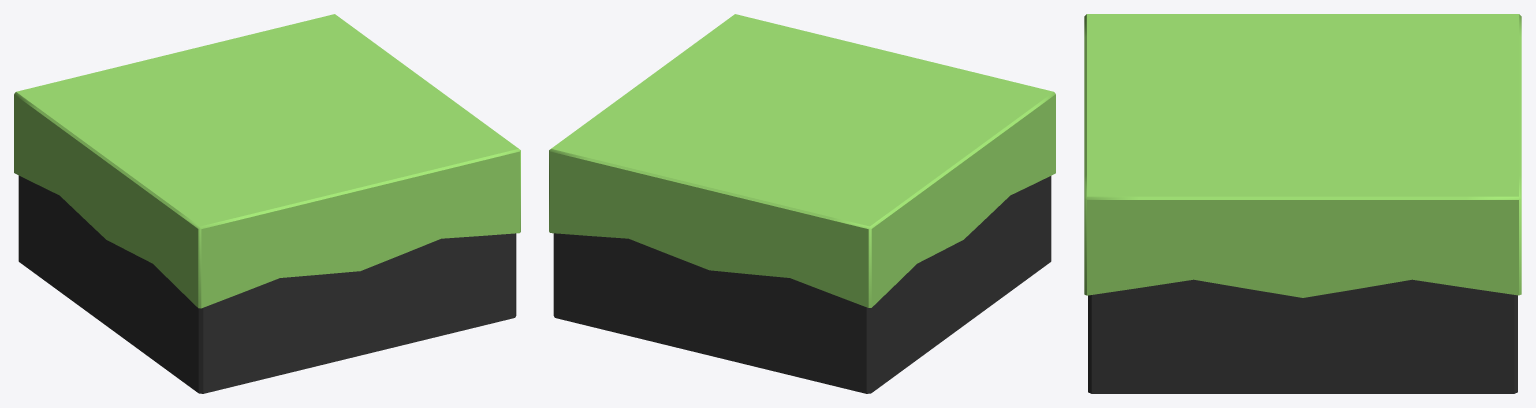
Rendered from GroundBlock.fbx.
3 views of the same model, side by side, from view 1: azimuth 30°, elevation 25°; view 2: azimuth 150°, elevation 25°; view 3: azimuth 270°, elevation 25° (orthographic). The views are drawn at different scales.
Parts seen in each view (by area): view 1: Grass, Ground; view 2: Grass, Ground; view 3: Grass, Ground.
Part boxes in pixels (x1,y1,x2,y2): Grass: (14,14,520,308); Ground: (18,175,516,393); Grass: (549,14,1055,307); Ground: (553,176,1051,393); Grass: (1084,14,1521,297); Ground: (1088,279,1517,393).
Bounding box in the file's own units: 447 × 223 × 447.
